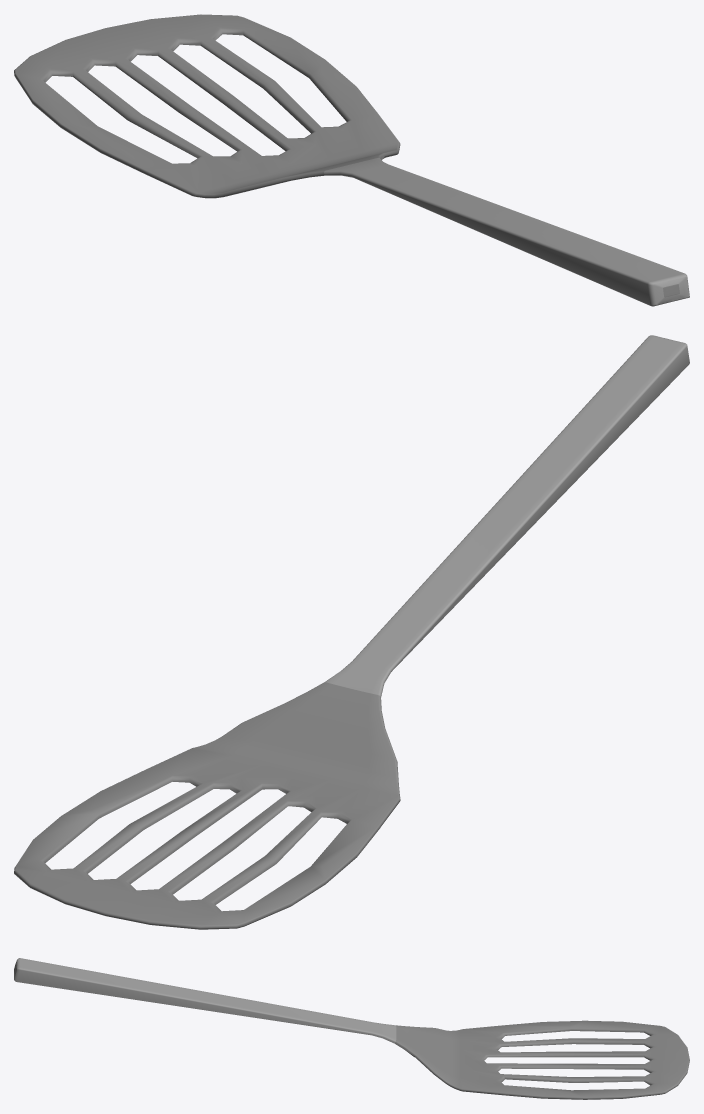
The model's file is Spatula.fbx.
3 views of the same model, one above another, from view 1: azimuth 30°, elevation 25°; view 2: azimuth 150°, elevation 25°; view 3: azimuth 270°, elevation 25° (orthographic). The views are drawn at different scales.
Visible parts, largest first — view 1: Plane.006; view 2: Plane.006; view 3: Plane.006.
Boxes of the visible parts, box(x1,y1,x2,y2) form: Plane.006: box(14, 14, 689, 306); Plane.006: box(14, 335, 689, 929); Plane.006: box(14, 958, 689, 1099).
Bounding box in the file's own units: 19.85 × 11.78 × 73.41.
